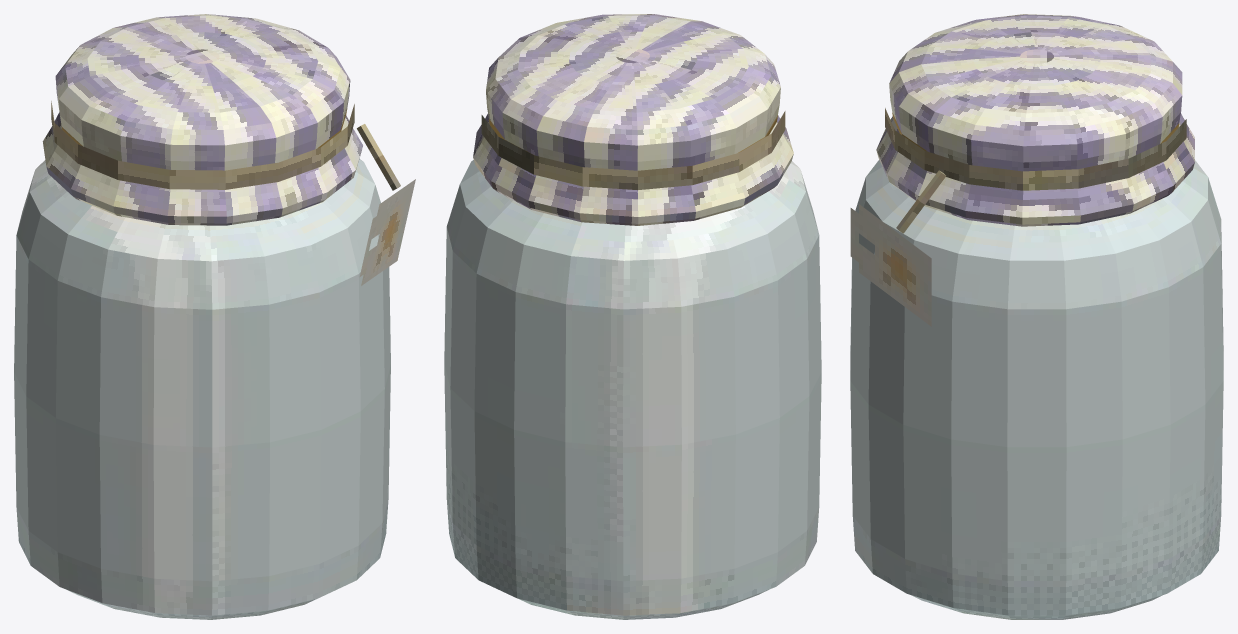
File: star_jar.glb
The picture shows the model from 3 angles, left to right: view 1: azimuth 30°, elevation 25°; view 2: azimuth 150°, elevation 25°; view 3: azimuth 270°, elevation 25°; orthographic projection.
Visible parts, largest first — view 1: static; view 2: static; view 3: static.
Boxes of the visible parts, x1,y1,x2,y2 form: static: (14,14,415,619); static: (444,14,821,619); static: (850,14,1223,619).
Size of the model in its own units: 0.5445 by 0.8064 by 0.5445.
Materials: 4 (4 with a texture image).
